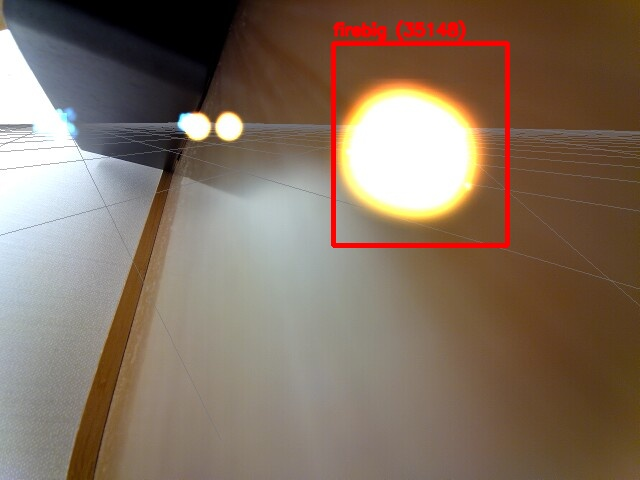firebig: (333, 43, 507, 245)
